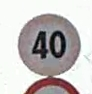limite 40: (18, 12, 80, 77)
